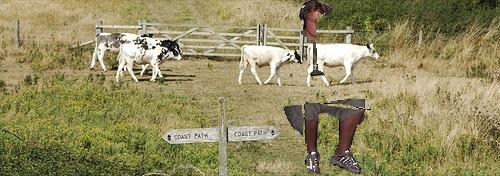tampered: (285, 1, 371, 174)
